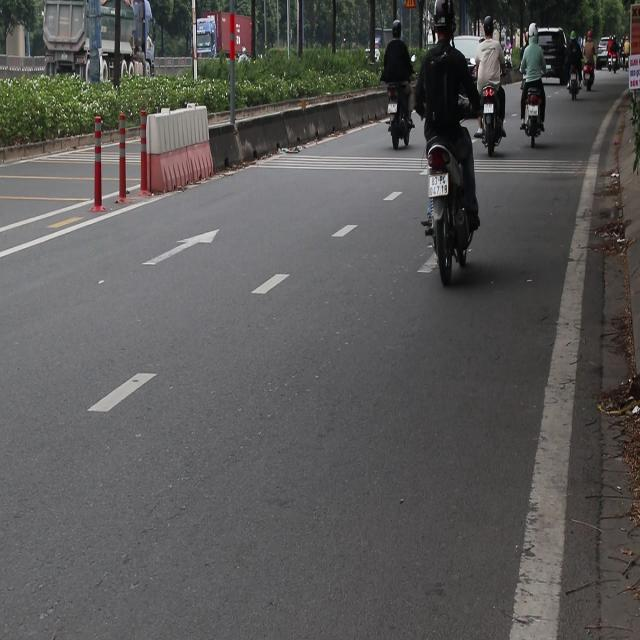car: (436, 35, 497, 94), (534, 27, 568, 78), (596, 38, 612, 70)
motorbike: (423, 142, 484, 302), (377, 79, 410, 166), (478, 78, 509, 146), (521, 85, 549, 138)
truck: (39, 4, 153, 98), (196, 14, 254, 62)
